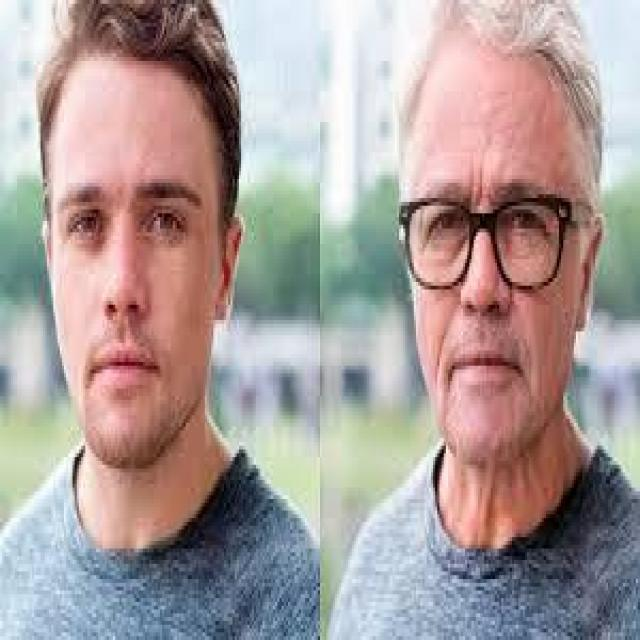person: (5, 0, 312, 636), (328, 0, 634, 636)
